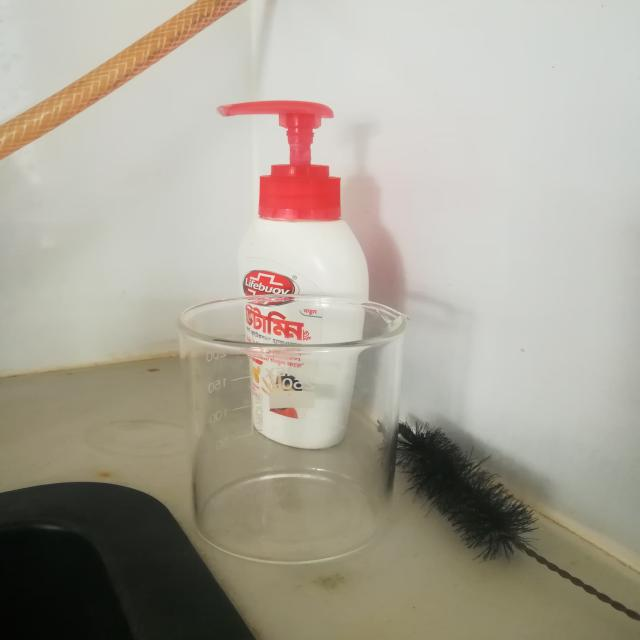Beaker: (148, 260, 444, 589)
